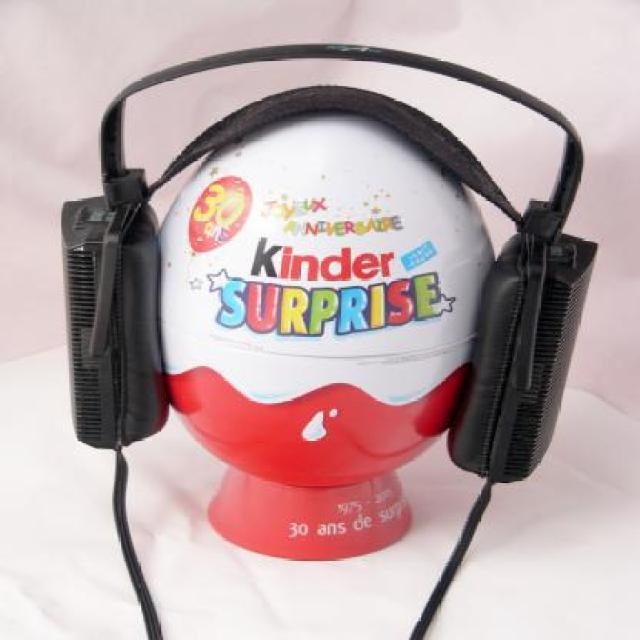earphone: (67, 67, 575, 465)
